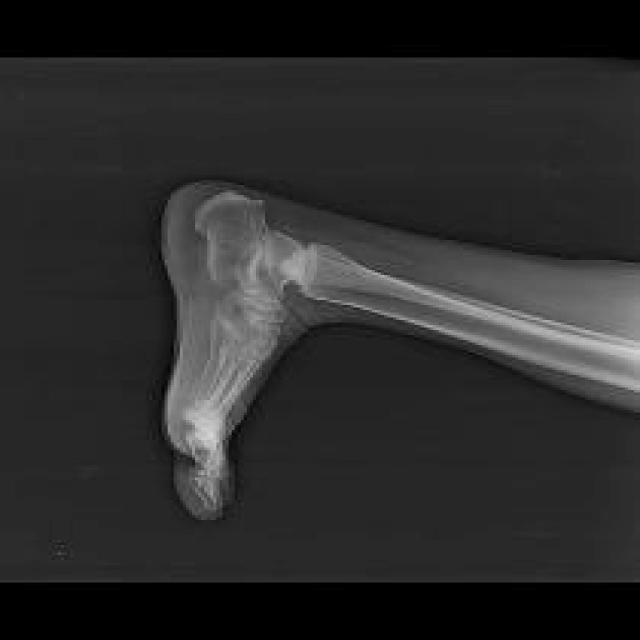normal: (180, 192, 640, 514)
